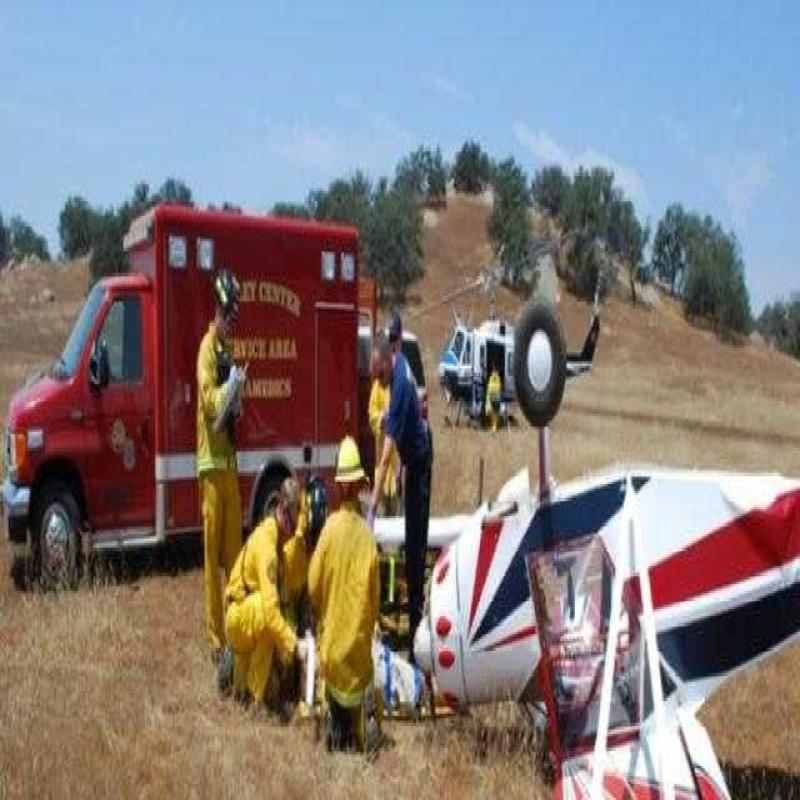AmbulanceSiren: (168, 208, 222, 276)
